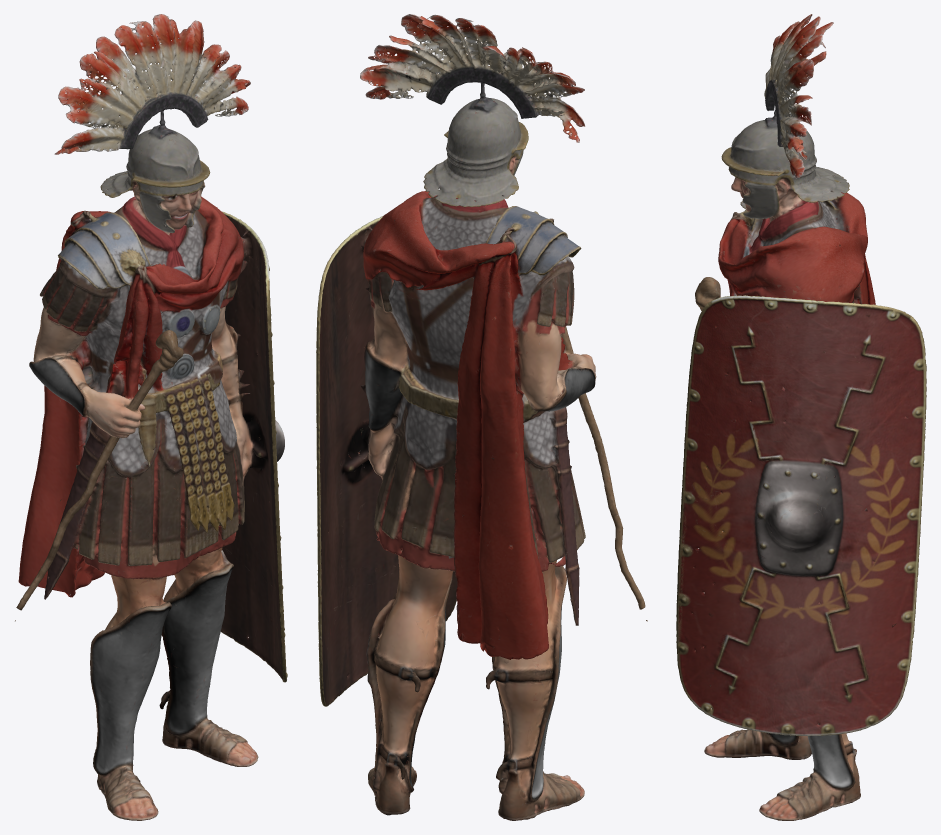
File: roman_legionary.glb
3 renders of one model, left to right at view 1: azimuth 30°, elevation 25°; view 2: azimuth 150°, elevation 25°; view 3: azimuth 270°, elevation 25°, orthographic. The views are drawn at different scales.
Parts seen in each view (by area): view 1: Object_4, Object_3, Object_2, Object_5; view 2: Object_2, Object_4, Object_3, Object_5; view 3: Object_3, Object_4, Object_2, Object_5.
Boxes of the visible parts, <box> form: Object_4: <box>16,14,287,820</box>; Object_3: <box>33,15,285,743</box>; Object_2: <box>17,20,272,659</box>; Object_5: <box>15,18,285,820</box>; Object_2: <box>336,17,647,659</box>; Object_4: <box>316,14,645,820</box>; Object_3: <box>316,14,594,816</box>; Object_5: <box>316,14,642,820</box>; Object_3: <box>676,14,926,810</box>; Object_4: <box>676,14,926,820</box>; Object_2: <box>699,23,875,561</box>; Object_5: <box>676,18,926,820</box>.
Bounding box in the file's own units: 15.51 × 39.54 × 11.93.
Materials: 1 (1 with a texture image).
